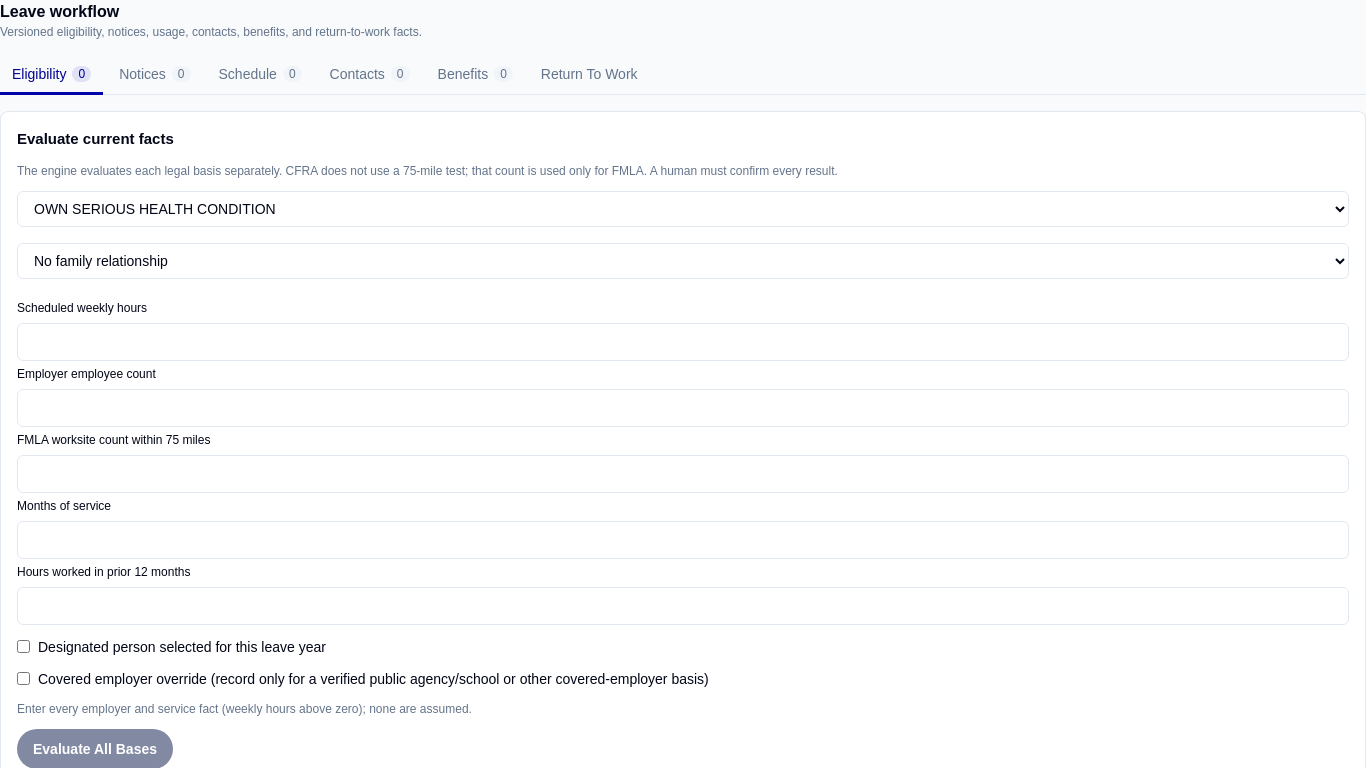
Test case: Schedule tab › shows the exact server refusal for a taken segment and keeps what was typed
Click the tab "Schedule 0" at point(260, 76), box [206,56,314,95]
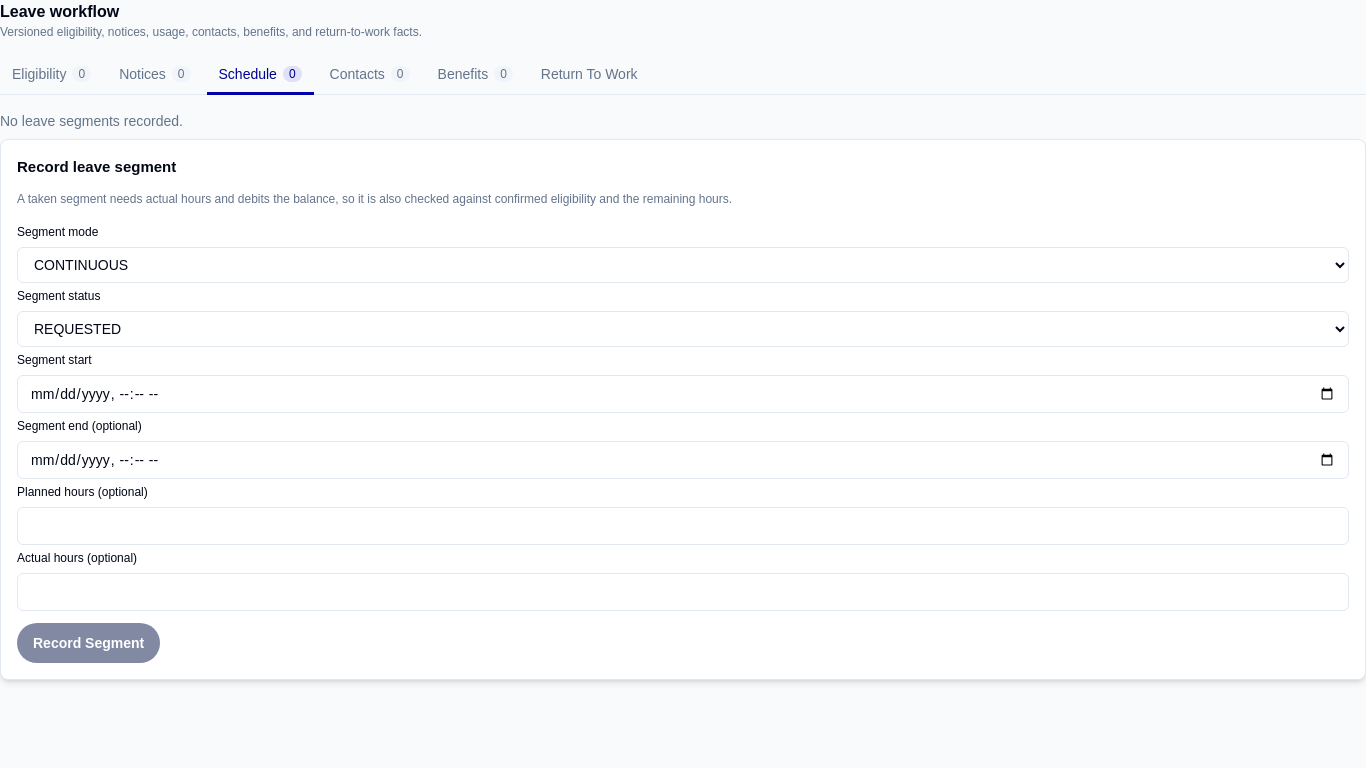
Select "TAKEN" in the dropdown labelled "Segment status" at point(683, 328), box [17,310,1349,346]
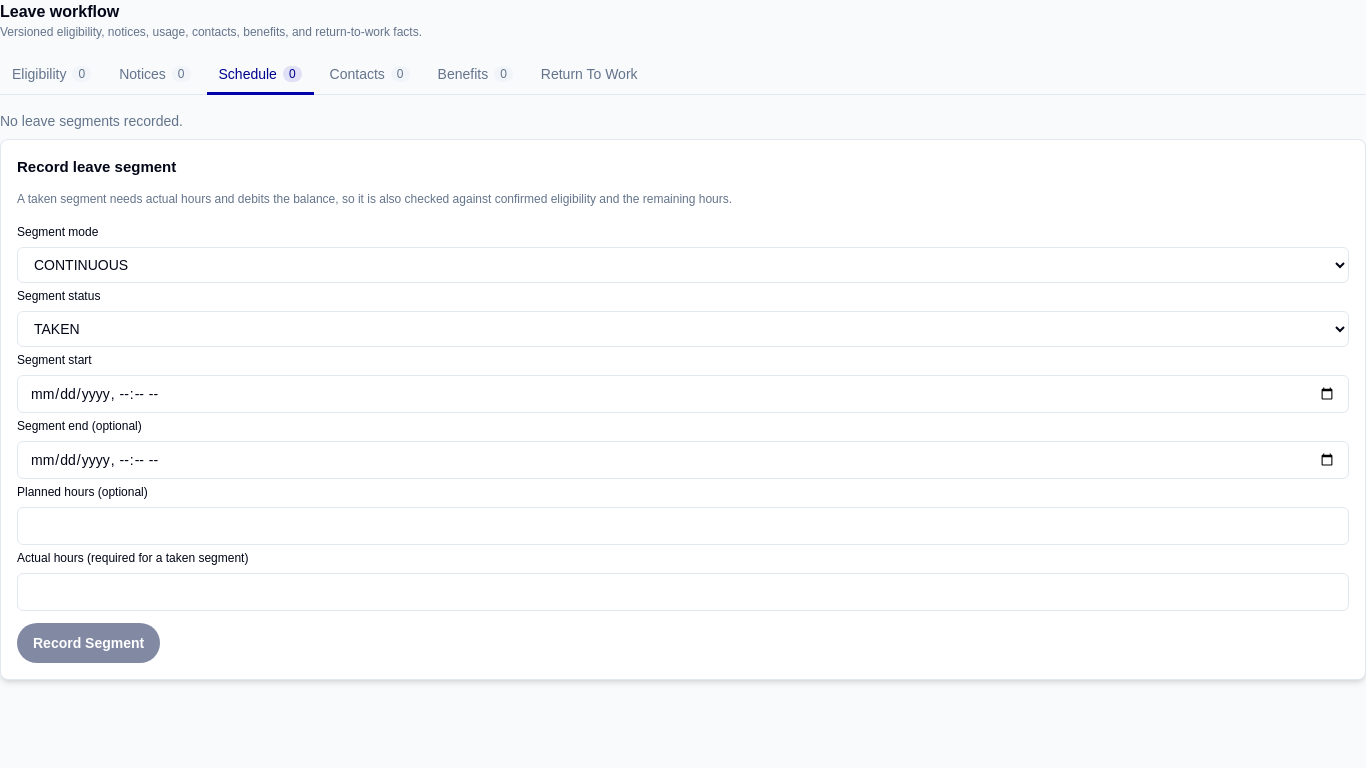
expect the number field labelled "Actual hours (required for a taken segment)" is shown: met, box [17,572,1349,610]
Type "2026-08-03T08:00" into the field labelled "Segment start" at point(683, 394), box [17,374,1349,412]
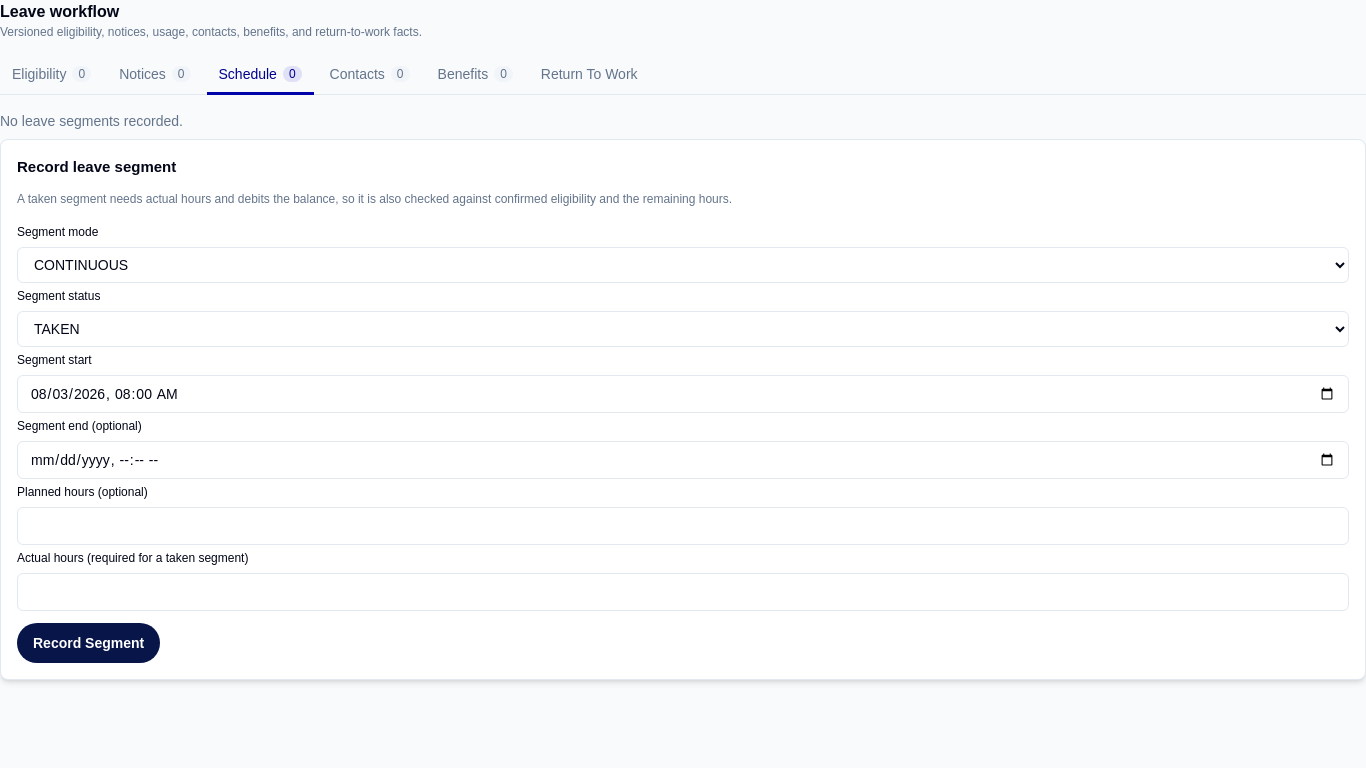
Type "40" into the number field labelled "Actual hours (required for a taken segment)" at point(683, 592), box [17,572,1349,610]
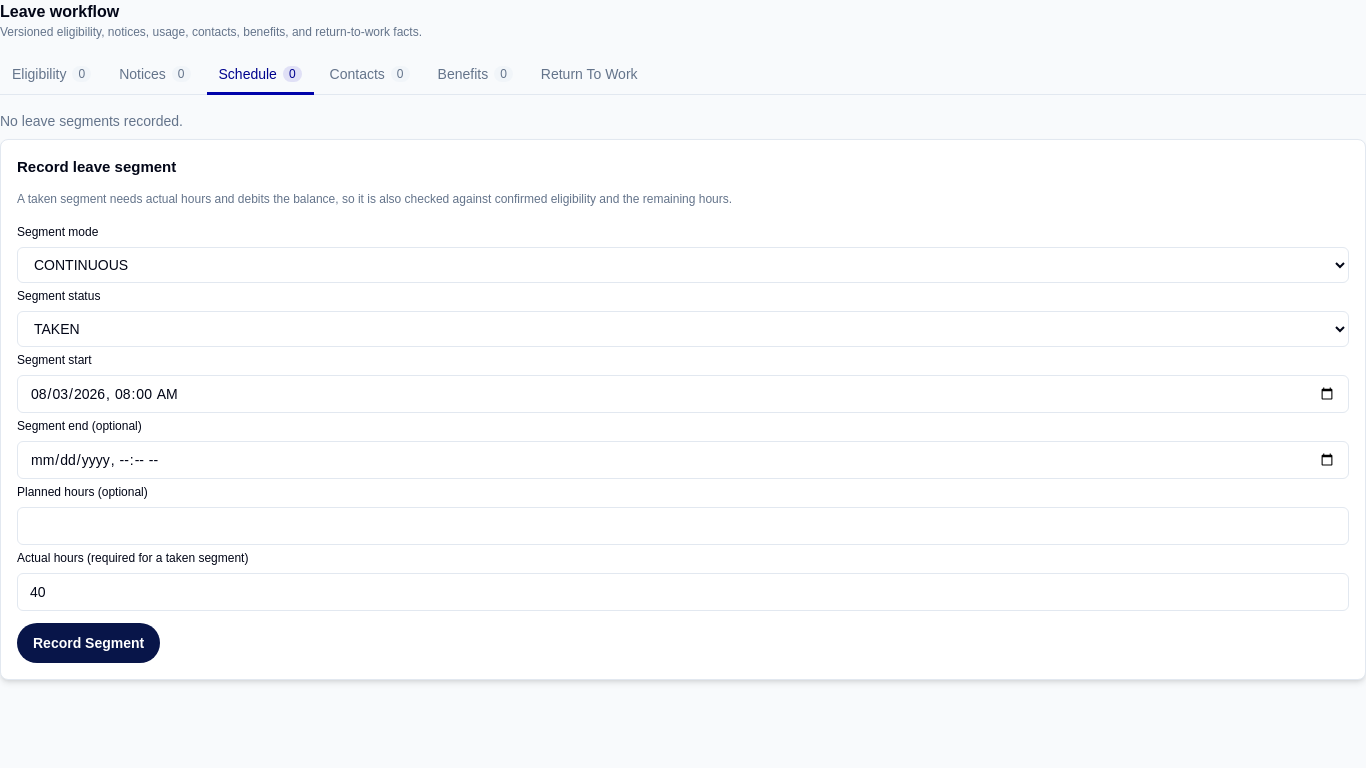
Click the button "Record Segment" at point(89, 642), box [17,622,160,662]
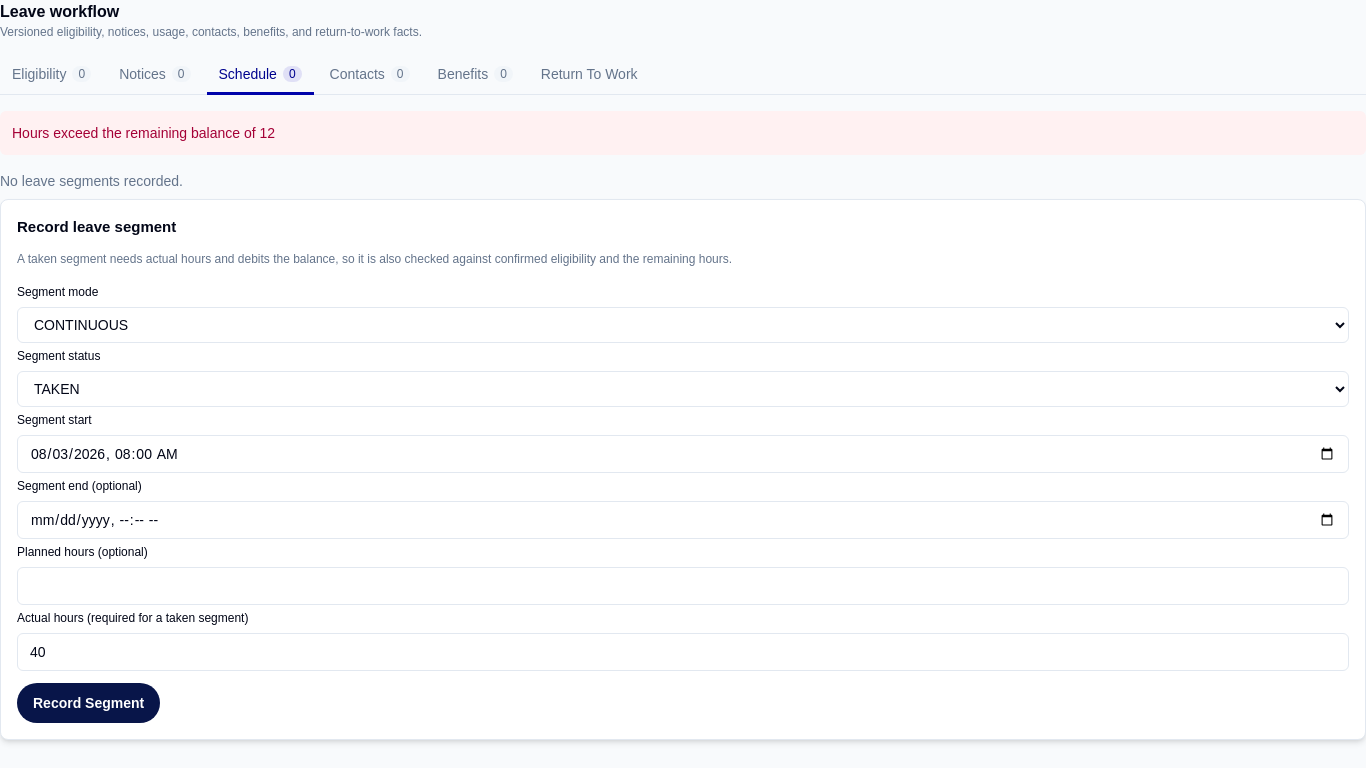
expect the text "Hours exceed the remaining balance of 12" is shown: met, box [0,111,1365,155]
